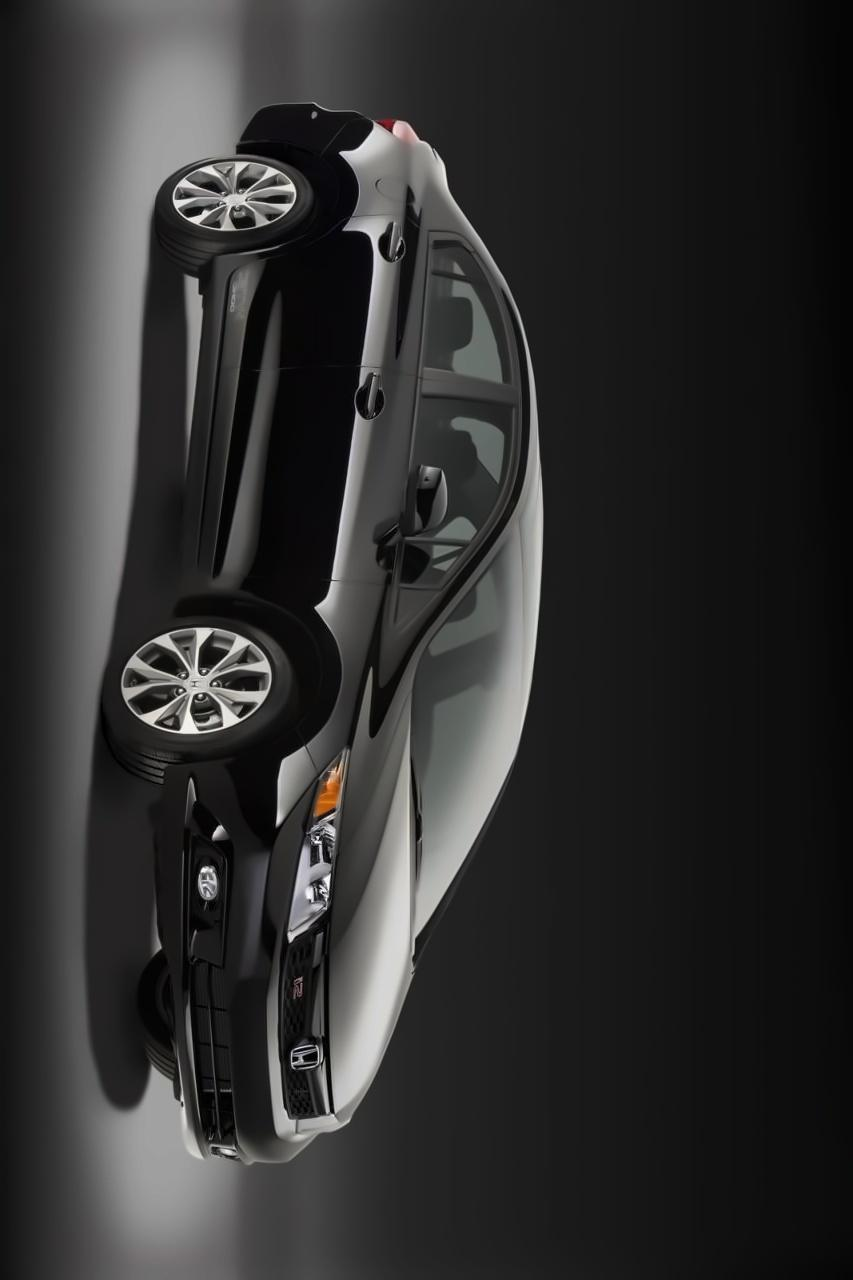Car hood: (312, 676, 456, 1128)
Driver-s door - -F-R-: (132, 360, 557, 636)
Fender - -F-R-: (134, 570, 412, 771)
Fender - -R-R-: (184, 121, 531, 270)
Front bumper: (130, 746, 330, 1189)
Headlight - -R-: (287, 730, 350, 951)
Passenger-s door - -R-R-: (174, 218, 563, 417)
Rear bumper: (238, 94, 335, 176)
Side bumper - -R-: (158, 240, 303, 611)
Side mirror - -R-: (380, 450, 454, 567)
